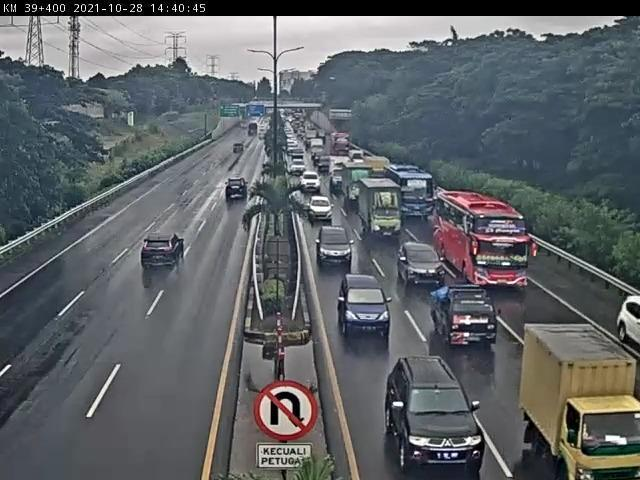bus: (432, 188, 531, 291), (383, 164, 432, 218)
car: (387, 358, 488, 473), (430, 283, 500, 348), (338, 273, 393, 337), (398, 242, 448, 289), (315, 225, 355, 267), (307, 196, 335, 227), (224, 176, 251, 202)
truck: (358, 179, 401, 237), (141, 232, 186, 271)
